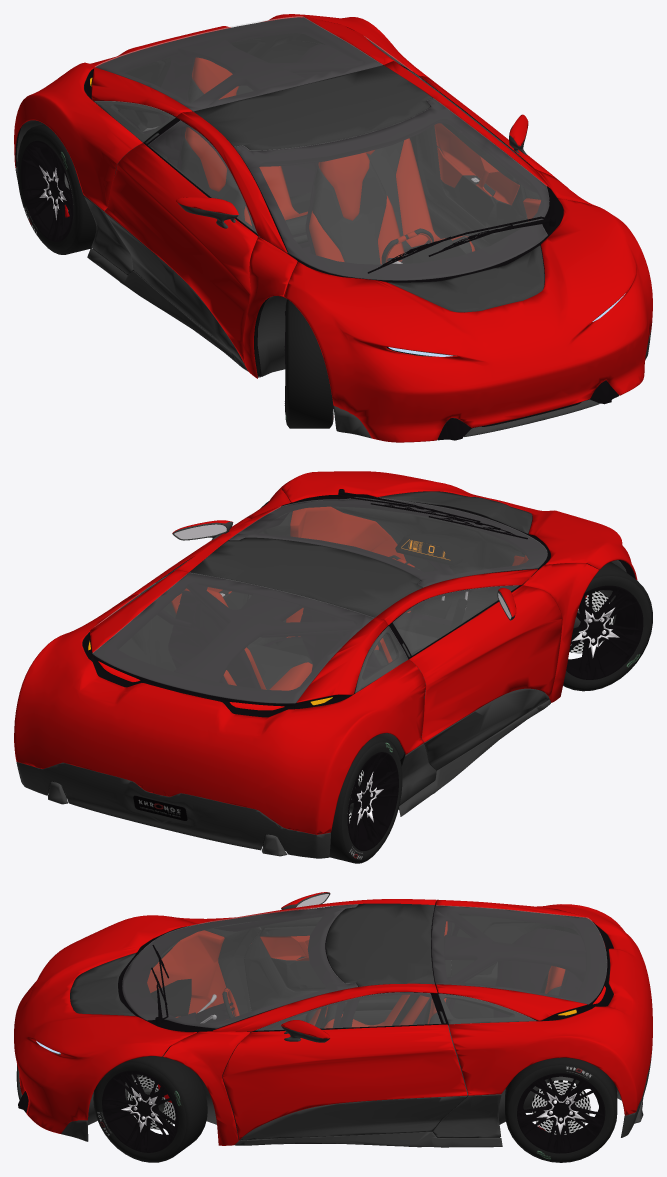
The model's file is car.glb.
3 renders of one model, top to bottom at view 1: azimuth 30°, elevation 25°; view 2: azimuth 150°, elevation 25°; view 3: azimuth 270°, elevation 25°, orthographic. The views are drawn at different scales.
Visible parts, largest first — view 1: BodyRearPanelsColor1, BodyWindshield, BodyWindshieldGasket, BodyRoofPanel, InteriorDashSides, InteriorDashMid, InteriorSeatsColor2, object 21, WheelFrontLRim, BodyUnderside, InteriorMid, InteriorSteeringDash; view 2: BodyRearPanelsColor1, BodyWindshield, BodyRoofPanel, BodyWindshieldGasket, InteriorDashMid, WheelFrontLRim, object 21, InteriorDashSides, InteriorSeatsColor2, InteriorFloormats, InteriorSteeringDash, BodyUnderside (+3 smaller); view 3: BodyRearPanelsColor1, BodyWindshield, BodyRoofPanel, BodyWindshieldGasket, object 21, WheelFrontLRim, InteriorDashMid, InteriorDashSides, InteriorMid, WheelFrontLBrakeDisc, BodyUnderside, InteriorSeatsColor2 (+1 smaller).
Part boxes in pixels (x1=…): BodyRearPanelsColor1: x1=14, y1=14, x2=652, y2=442; BodyWindshield: x1=94, y1=16, x2=549, y2=280; BodyWindshieldGasket: x1=16, y1=17, x2=618, y2=440; BodyRoofPanel: x1=15, y1=65, x2=651, y2=438; InteriorDashSides: x1=185, y1=57, x2=540, y2=349; InteriorDashMid: x1=15, y1=33, x2=526, y2=281; InteriorSeatsColor2: x1=180, y1=78, x2=472, y2=264; object 21: x1=17, y1=124, x2=333, y2=428; WheelFrontLRim: x1=20, y1=140, x2=285, y2=414; BodyUnderside: x1=16, y1=78, x2=526, y2=425; InteriorMid: x1=93, y1=173, x2=557, y2=376; InteriorSteeringDash: x1=404, y1=239, x2=465, y2=263; BodyRearPanelsColor1: x1=14, y1=471, x2=637, y2=834; BodyWindshield: x1=92, y1=497, x2=547, y2=703; BodyRoofPanel: x1=16, y1=491, x2=550, y2=858; BodyWindshieldGasket: x1=83, y1=489, x2=635, y2=753; InteriorDashMid: x1=48, y1=502, x2=528, y2=850; WheelFrontLRim: x1=347, y1=585, x2=643, y2=850; object 21: x1=260, y1=492, x2=652, y2=863; InteriorDashSides: x1=171, y1=506, x2=528, y2=690; InteriorSeatsColor2: x1=246, y1=628, x2=437, y2=689; InteriorFloormats: x1=269, y1=598, x2=467, y2=659; InteriorSteeringDash: x1=395, y1=533, x2=462, y2=565; BodyUnderside: x1=48, y1=560, x2=626, y2=856; BodyRearPanelsColor1: x1=14, y1=892, x2=652, y2=1145; BodyWindshield: x1=122, y1=904, x2=606, y2=1030; BodyRoofPanel: x1=16, y1=892, x2=652, y2=1147; BodyWindshieldGasket: x1=18, y1=901, x2=613, y2=1144; object 21: x1=93, y1=1054, x2=617, y2=1162; WheelFrontLRim: x1=102, y1=1070, x2=605, y2=1153; InteriorDashMid: x1=118, y1=908, x2=613, y2=1025; InteriorDashSides: x1=147, y1=921, x2=565, y2=1028; InteriorMid: x1=205, y1=921, x2=499, y2=1143; WheelFrontLBrakeDisc: x1=127, y1=1075, x2=590, y2=1134; BodyUnderside: x1=39, y1=927, x2=643, y2=1125; InteriorSeatsColor2: x1=304, y1=973, x2=560, y2=1028.
Size of the model in its own units: 2.54 by 1.15 by 4.36.
23 materials, 6 textured.
